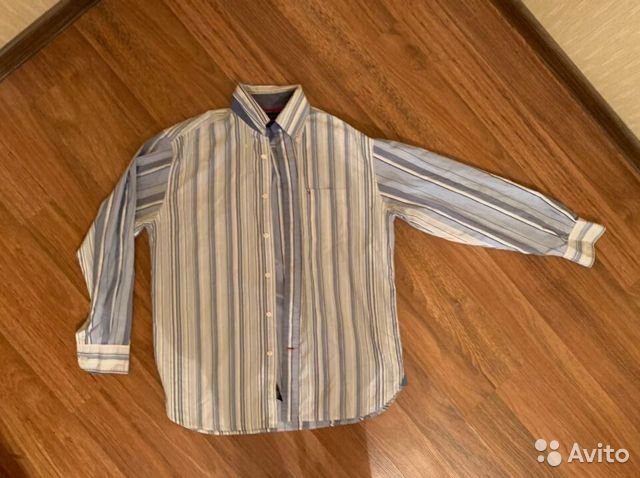striped: (77, 81, 605, 421)
